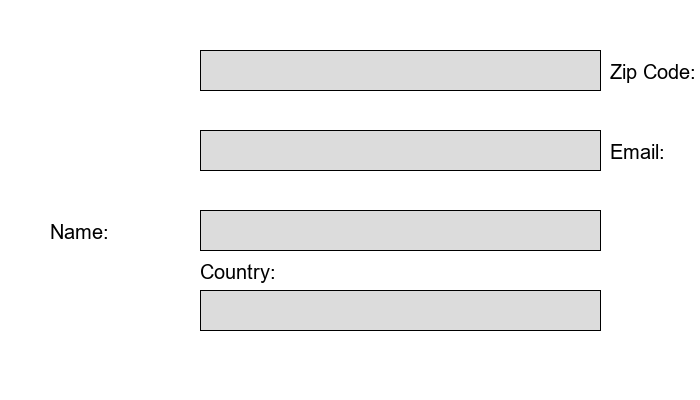Label: (610, 60, 690, 79), (200, 260, 270, 279), (50, 220, 103, 235), (610, 140, 659, 155)
Textbox: (200, 50, 600, 90), (200, 130, 600, 170), (200, 210, 600, 250), (200, 290, 600, 330)
